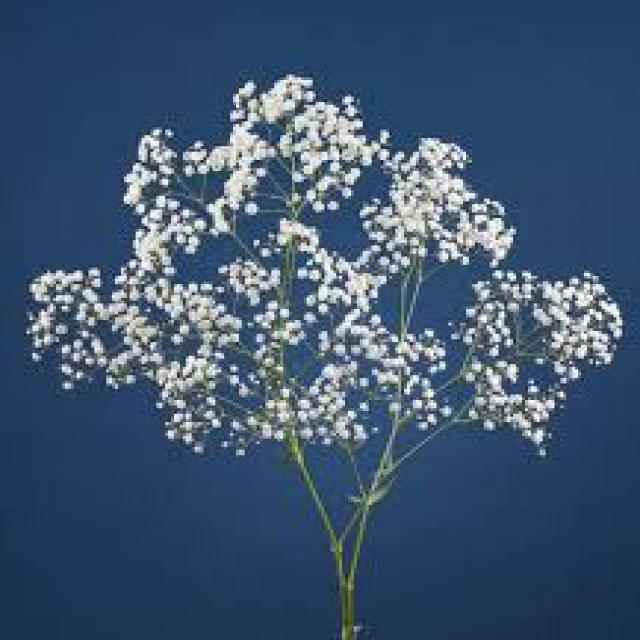gypsophila: (215, 79, 620, 453), (29, 103, 229, 451)
